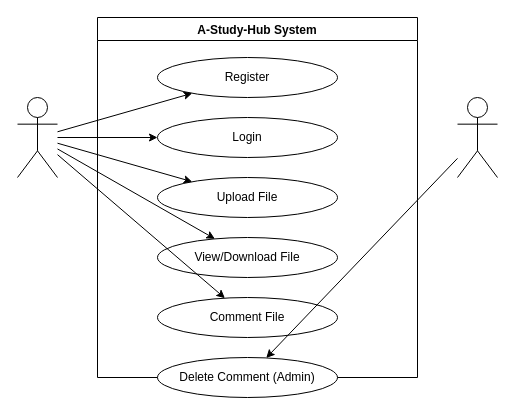
Image size: 515x415. Some labels were removed from this diagram. Each missing label, with the centre of its shape:
"Admin" goes at point (477, 137).
"User" goes at point (37, 137).
